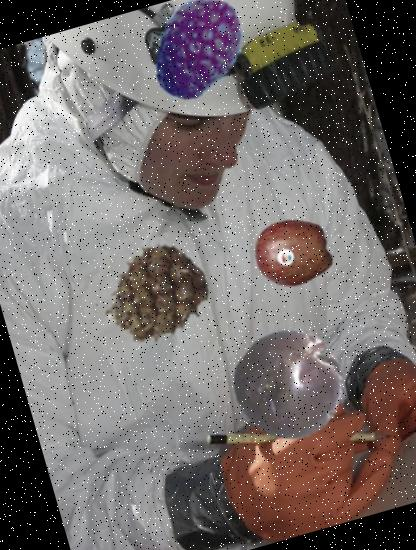Apple: (245, 205, 339, 299)
Passion: (220, 313, 361, 453)
Pineapple: (92, 229, 220, 358)
Raspberry: (133, 0, 267, 116)
